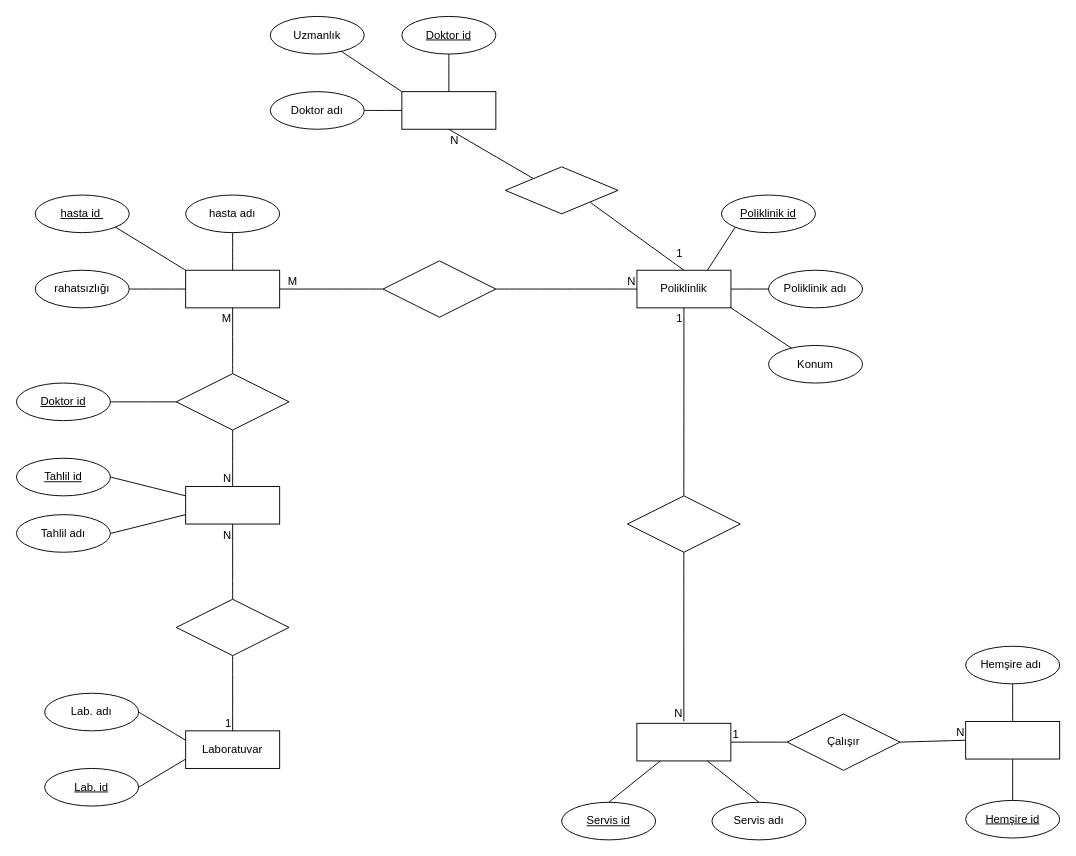
This 1076x856 diagram has some shape labels left out. The box of each missing label's shape, as (x1, y1, x2, y2) in pixels:
aittir: (627, 495, 740, 552)
Altında Çalışır: (504, 166, 618, 214)
Doktor: (401, 91, 496, 129)
Hasta: (185, 269, 280, 308)
Hemşire: (965, 721, 1060, 759)
istenir: (175, 373, 289, 430)
muayene: (382, 260, 496, 317)
Servis: (636, 722, 731, 761)
Tahlil: (185, 486, 280, 524)
Test edilir: (175, 598, 289, 656)
